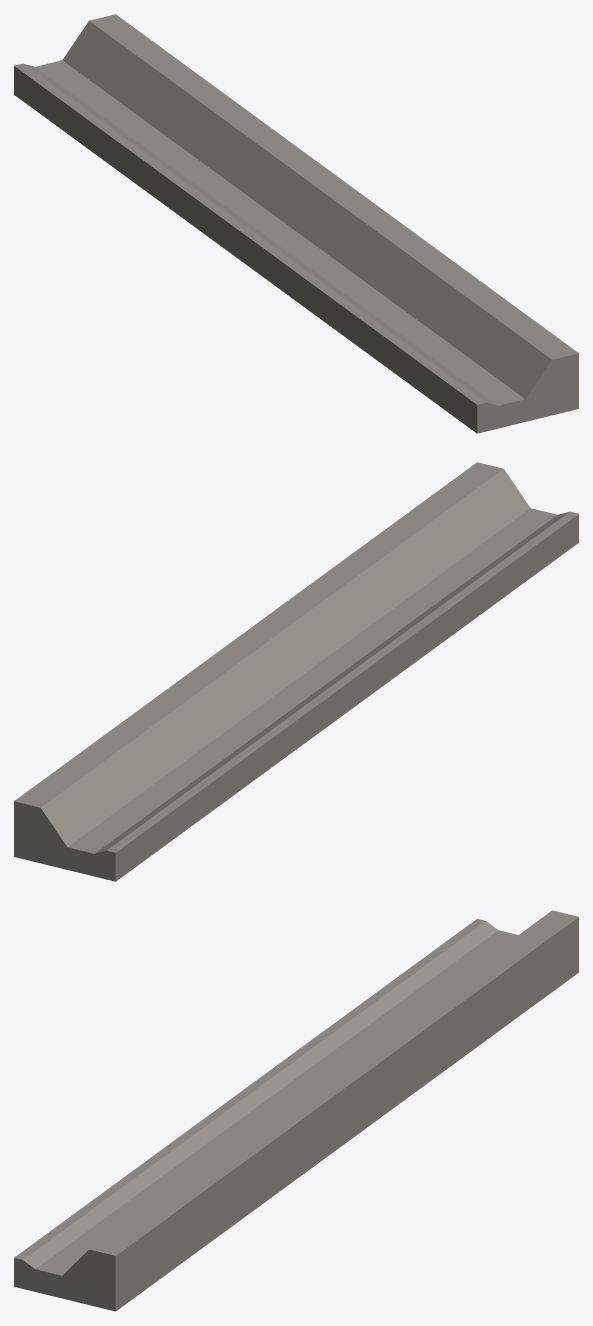
Rendered from Dam_1.fbx.
3 renders of one model, top to bottom at view 1: azimuth 30°, elevation 25°; view 2: azimuth 150°, elevation 25°; view 3: azimuth 330°, elevation 25°, orthographic.
Parts seen in each view (by area): view 1: Dam_1; view 2: Dam_1; view 3: Dam_1.
Part boxes in pixels (<box>): Dam_1: <box>14,14,578,433</box>; Dam_1: <box>14,462,578,881</box>; Dam_1: <box>14,910,578,1311</box>.
Size of the model in its own units: 958 by 500 by 7547.
